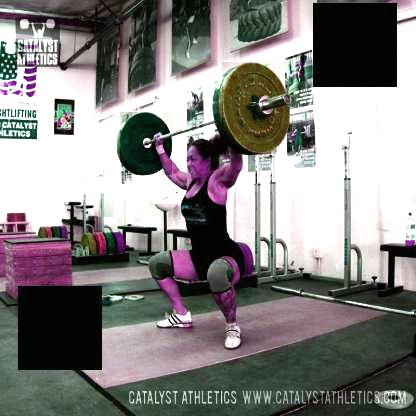barbell: (223, 62, 290, 154), (121, 112, 173, 176)
